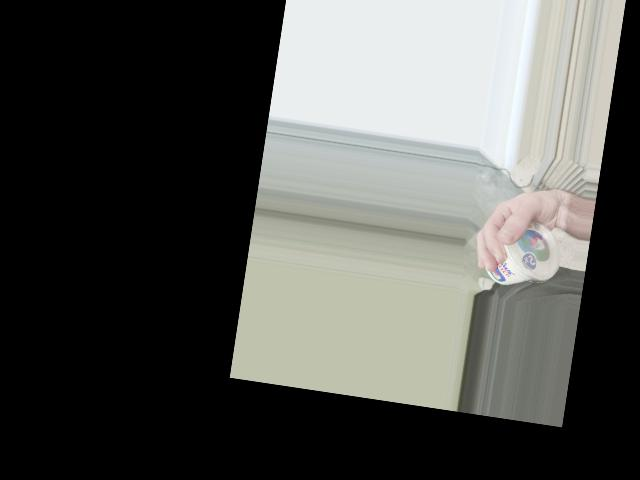cotage: (480, 215, 567, 292)
